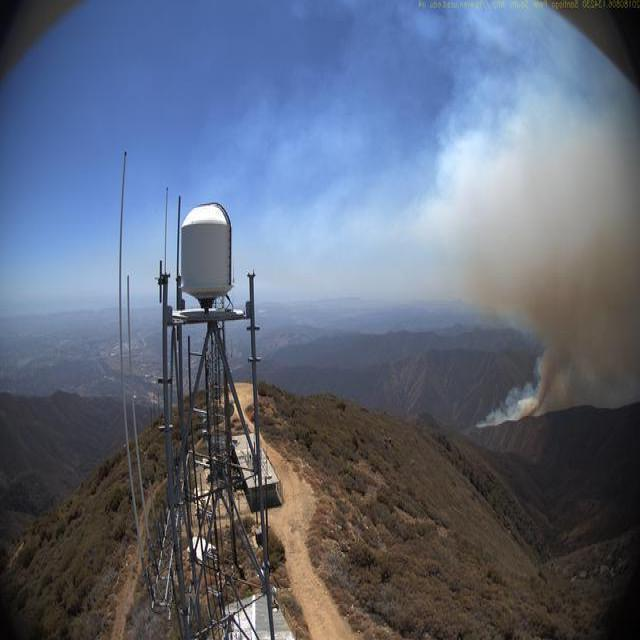Smoke: (439, 72, 638, 432)
